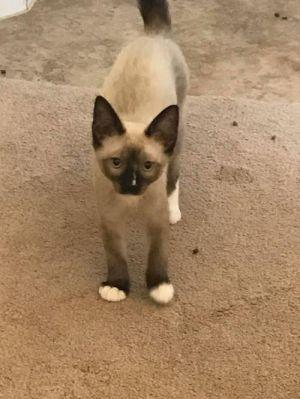siamese: (83, 91, 186, 208)
